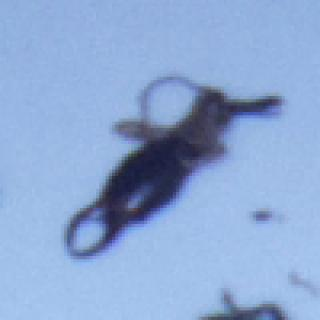earwig: (63, 70, 282, 262)
